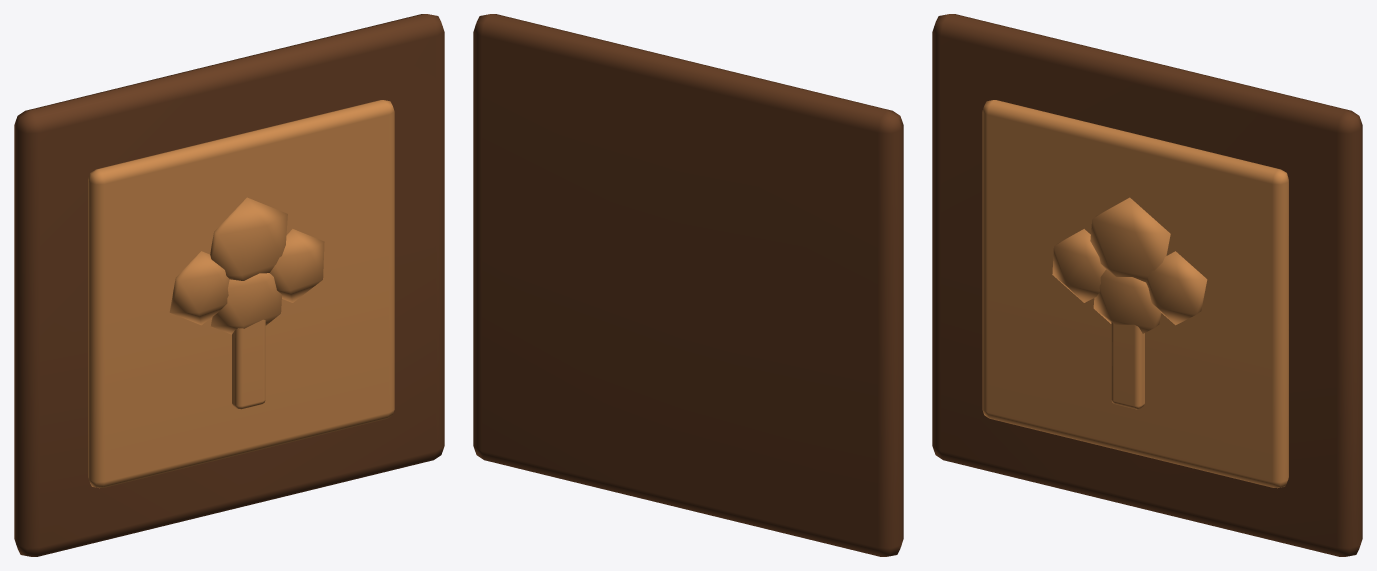
Rendered from furn_plaque_bronze.glb.
3 renders of one model, left to right at view 1: azimuth 30°, elevation 25°; view 2: azimuth 150°, elevation 25°; view 3: azimuth 330°, elevation 25°, orthographic.
Parts seen in each view (by area): view 1: furn_plaque_bronze_gloss, furn_plaque_bronze_main; view 2: furn_plaque_bronze_main; view 3: furn_plaque_bronze_gloss, furn_plaque_bronze_main.
Part boxes in pixels (<box>): furn_plaque_bronze_gloss: <box>88,100,394,488</box>; furn_plaque_bronze_main: <box>14,14,444,556</box>; furn_plaque_bronze_main: <box>473,14,903,556</box>; furn_plaque_bronze_gloss: <box>982,100,1288,488</box>; furn_plaque_bronze_main: <box>932,14,1362,556</box>.
Bounding box in the file's own units: 0.84 × 0.84 × 0.1155.
